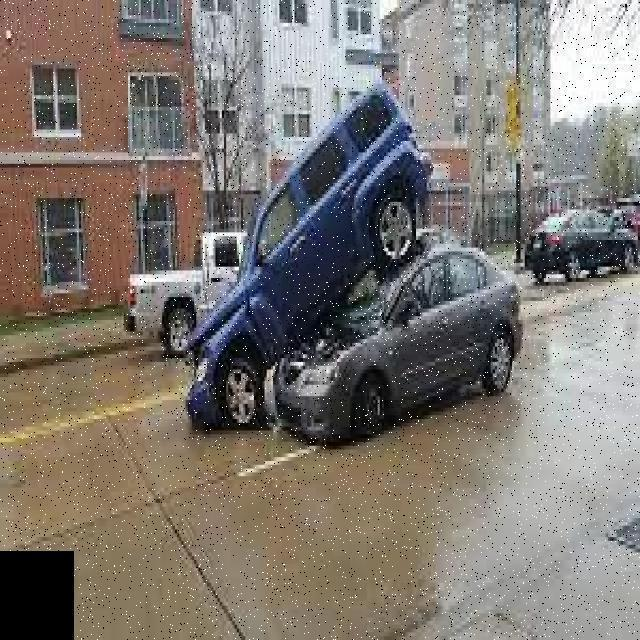accident: (188, 70, 525, 444)
